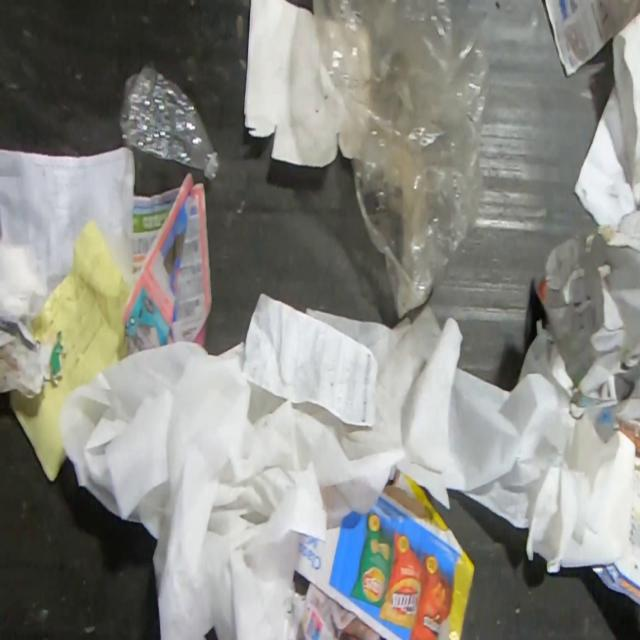cardboard: (294, 468, 478, 640)
rigid_plastic: (117, 62, 223, 185)
soft_plastic: (311, 0, 495, 322)
